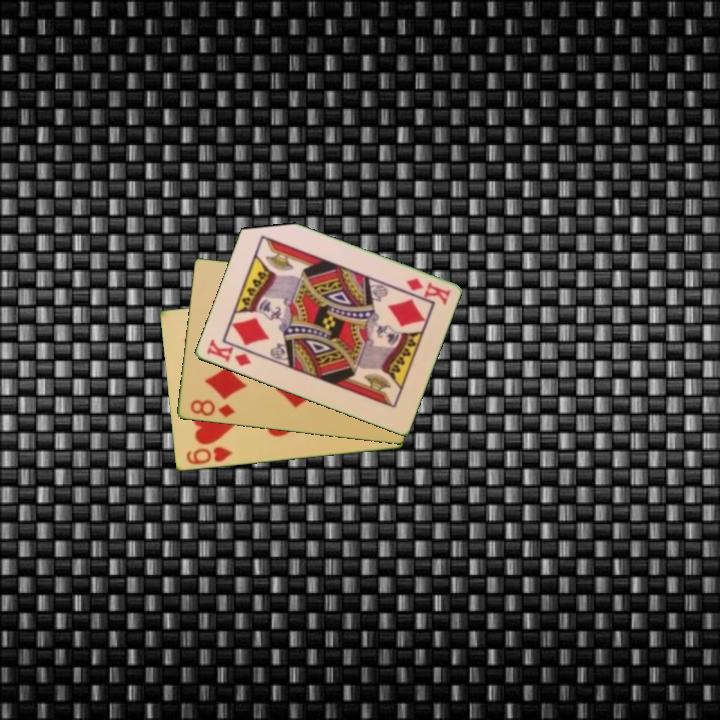6h: (183, 443, 235, 468)
8d: (187, 396, 238, 421)
Kd: (203, 336, 254, 369), (402, 275, 453, 307)
